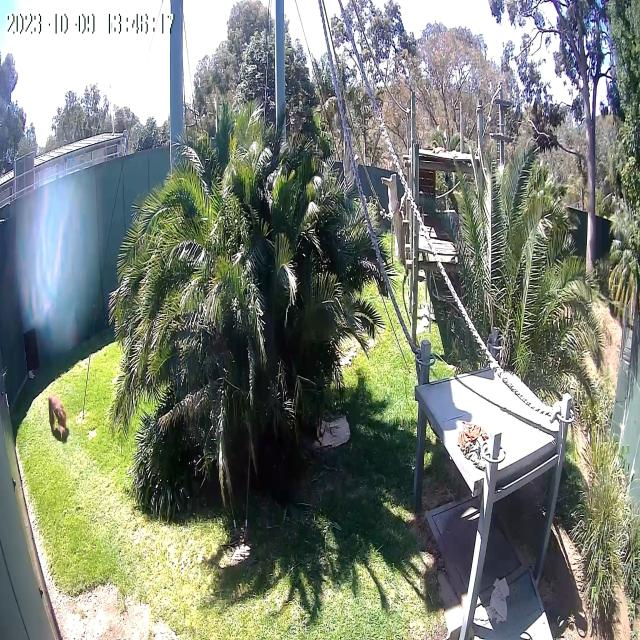orangutan: (48, 391, 68, 440)
